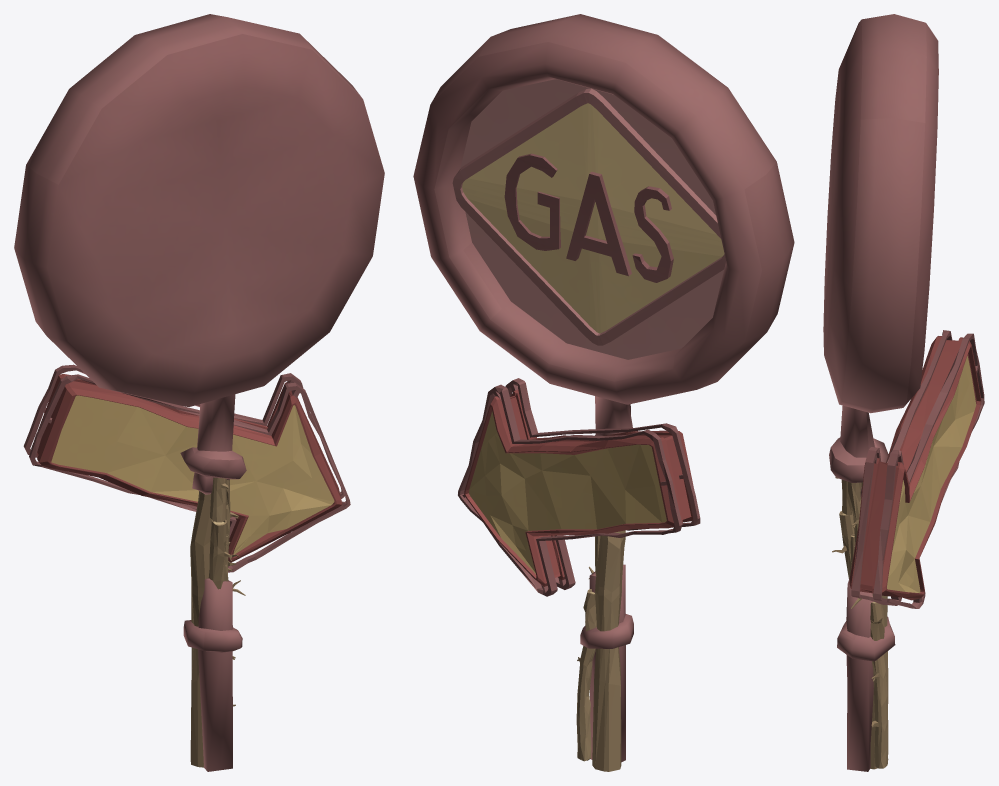
Rendered from big_gas_sign_1.obj.
3 renders of one model, left to right at view 1: azimuth 30°, elevation 25°; view 2: azimuth 150°, elevation 25°; view 3: azimuth 270°, elevation 25°, orthographic. The views are drawn at different scales.
Visible parts, largest first — view 1: gas_lolipop_Mesh, gas_arrow_Mesh, gas_arrow_neon_Mesh; view 2: gas_lolipop_Mesh, gas_arrow_Mesh, gas_arrow_neon_Mesh; view 3: gas_lolipop_Mesh, gas_arrow_Mesh, gas_arrow_neon_Mesh.
Part boxes in pixels (box(x1,y1,x2,y2)): gas_lolipop_Mesh: box(14, 14, 384, 771); gas_arrow_Mesh: box(31, 374, 342, 562); gas_arrow_neon_Mesh: box(23, 364, 350, 572); gas_lolipop_Mesh: box(413, 14, 794, 771); gas_arrow_Mesh: box(464, 389, 693, 586); gas_arrow_neon_Mesh: box(458, 378, 700, 596); gas_lolipop_Mesh: box(823, 14, 938, 771); gas_arrow_Mesh: box(849, 336, 981, 600); gas_arrow_neon_Mesh: box(851, 330, 984, 608).
Size of the model in its own units: 3.96 by 7.85 by 1.57.
